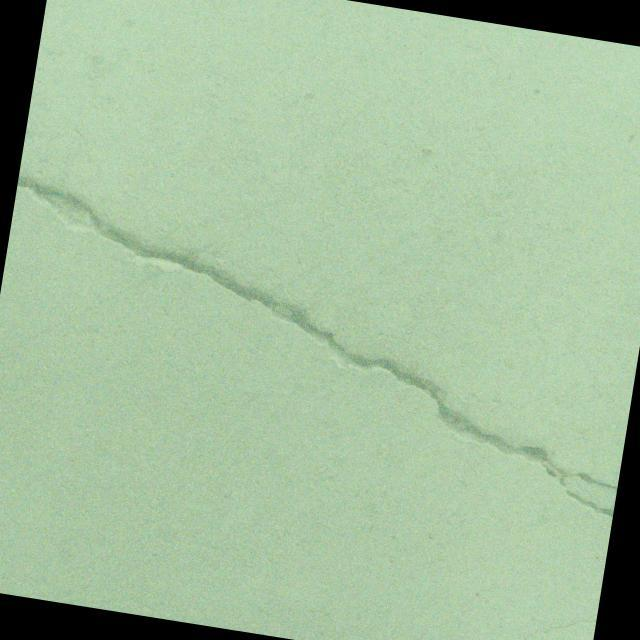crack: (0, 174, 640, 519), (459, 601, 596, 640)
